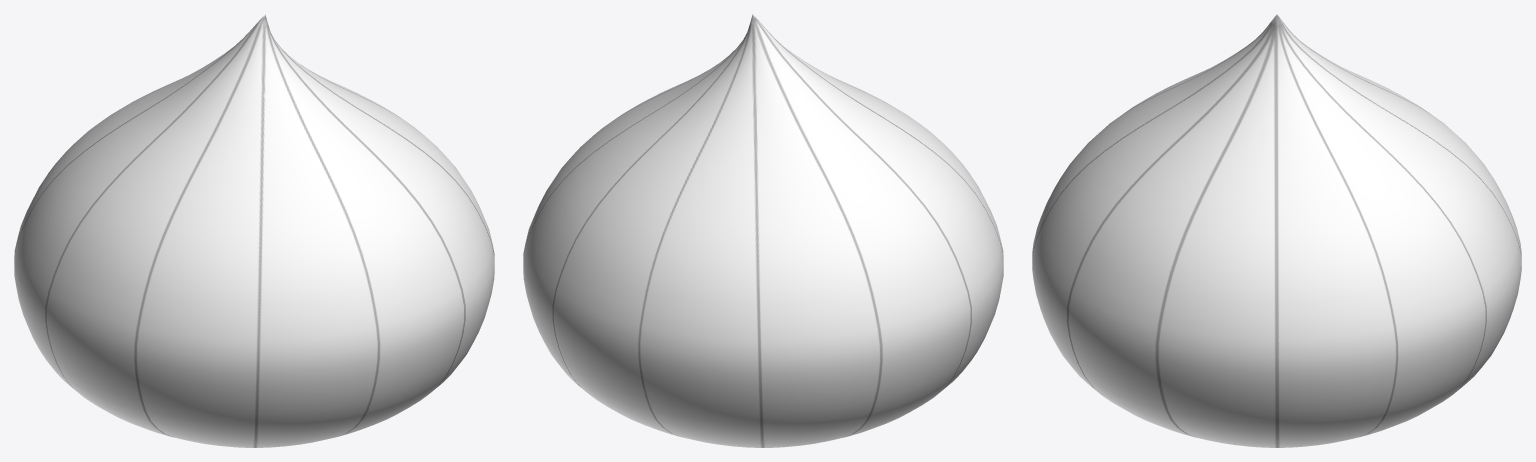
Rendered from Onion.fbx.
3 renders of one model, left to right at view 1: azimuth 30°, elevation 25°; view 2: azimuth 150°, elevation 25°; view 3: azimuth 270°, elevation 25°, orthographic.
Visible parts, largest first — view 1: Sphere; view 2: Sphere; view 3: Sphere.
Boxes of the visible parts, x1,y1,x2,y2 form: Sphere: [14, 14, 494, 447]; Sphere: [523, 14, 1003, 447]; Sphere: [1032, 14, 1521, 447].
Bounding box in the file's own units: 163 × 158 × 163.
